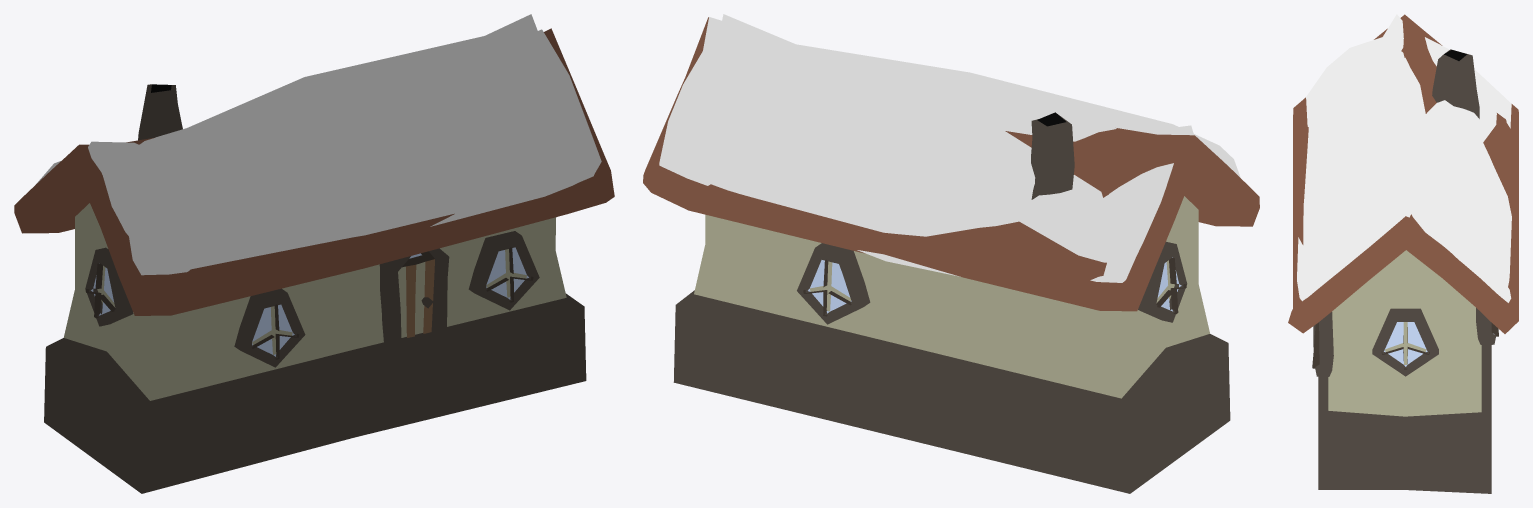
File: house_long_01.dae
The picture shows the model from 3 angles, left to right: view 1: azimuth 30°, elevation 25°; view 2: azimuth 150°, elevation 25°; view 3: azimuth 270°, elevation 25°; orthographic projection. The views are drawn at different scales.
Parts seen in each view (by area): view 1: house_long_01-0; view 2: house_long_01-0; view 3: house_long_01-0.
Part boxes in pixels (bbox=[...]): house_long_01-0: bbox=[14, 14, 614, 493]; house_long_01-0: bbox=[643, 14, 1259, 493]; house_long_01-0: bbox=[1288, 14, 1518, 493].
Bounding box in the file's own units: 13.69 × 9.05 × 6.52.
